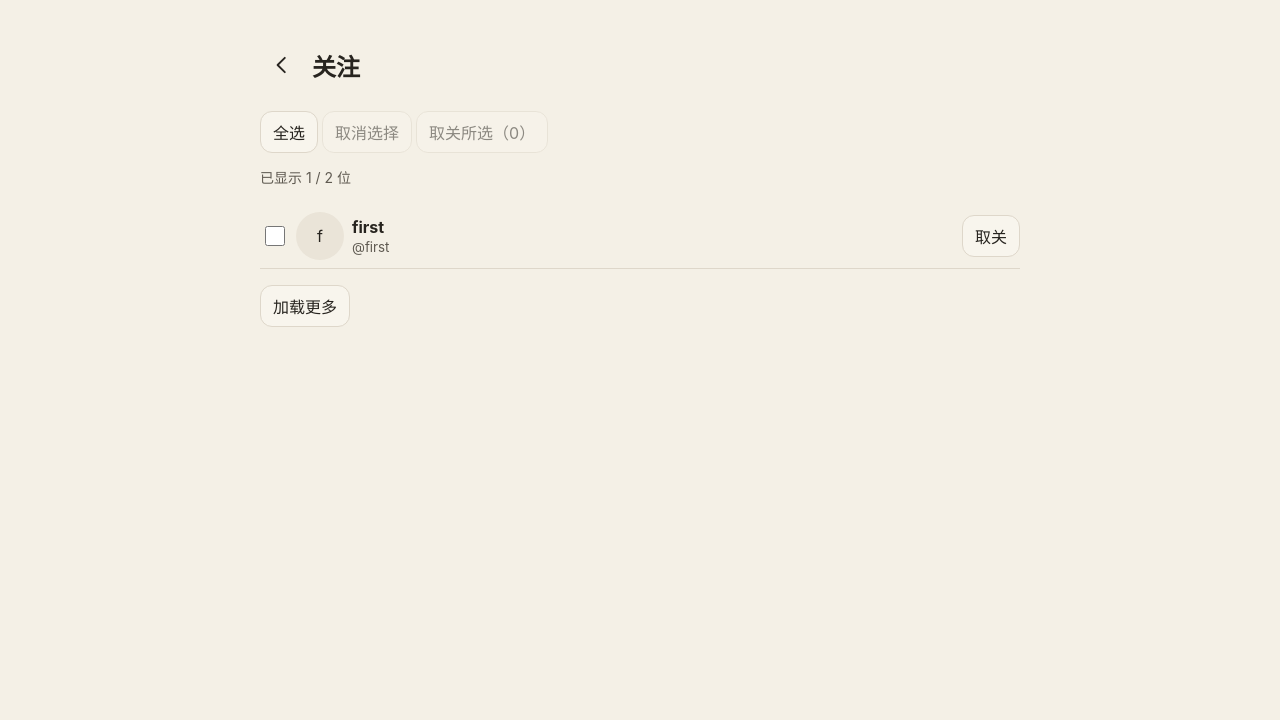
Test: does not claim all-selection when a later page fails
Click the button "全选". click: (289, 132)
box: [260,111,318,153]
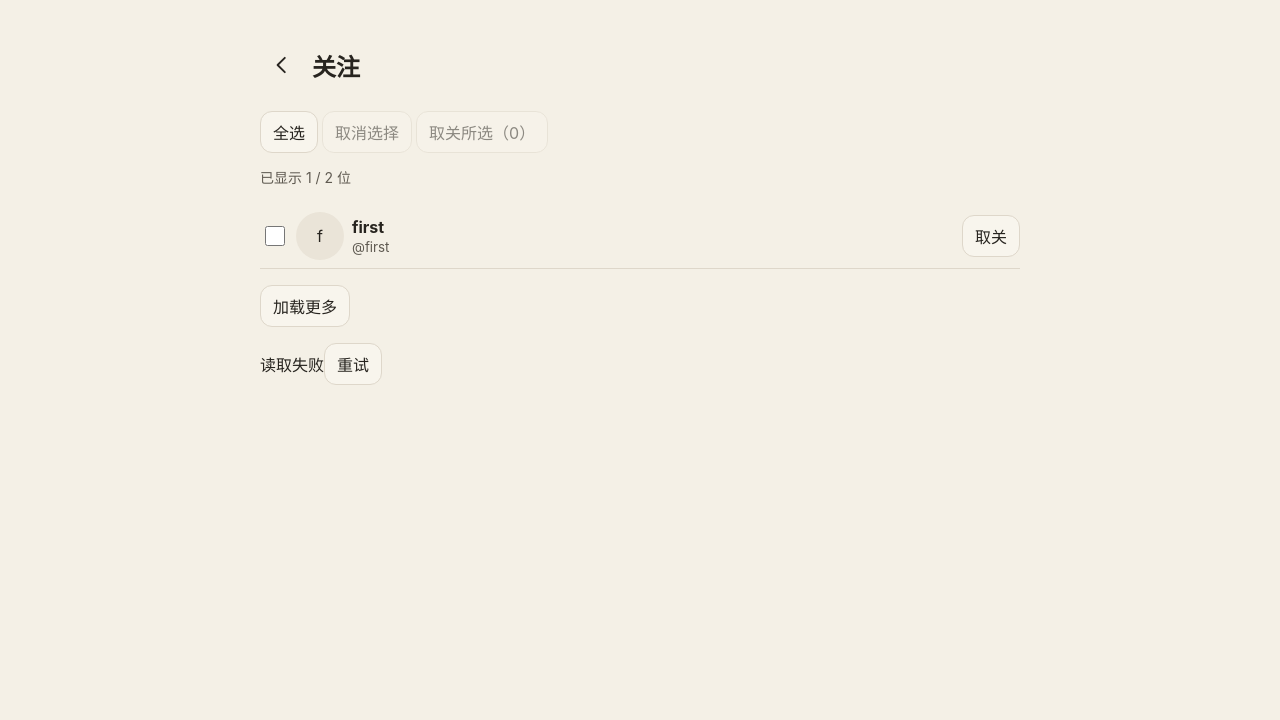
expect the button "取关所选（0）" is disabled: met, box [416,111,548,153]
expect the message "读取失败 重试" is shown: met, box [260,343,382,385]
